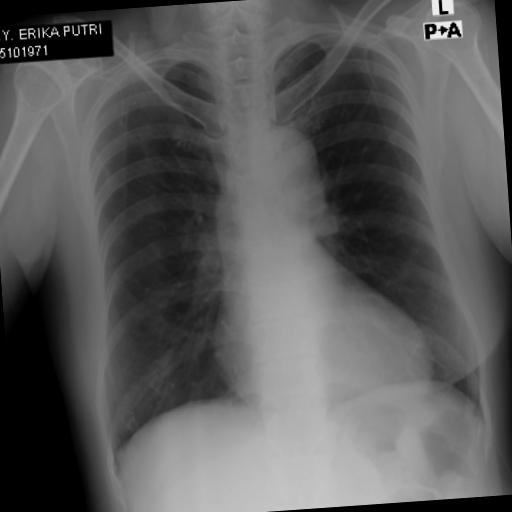kardiomegali: (62, 5, 494, 477)
